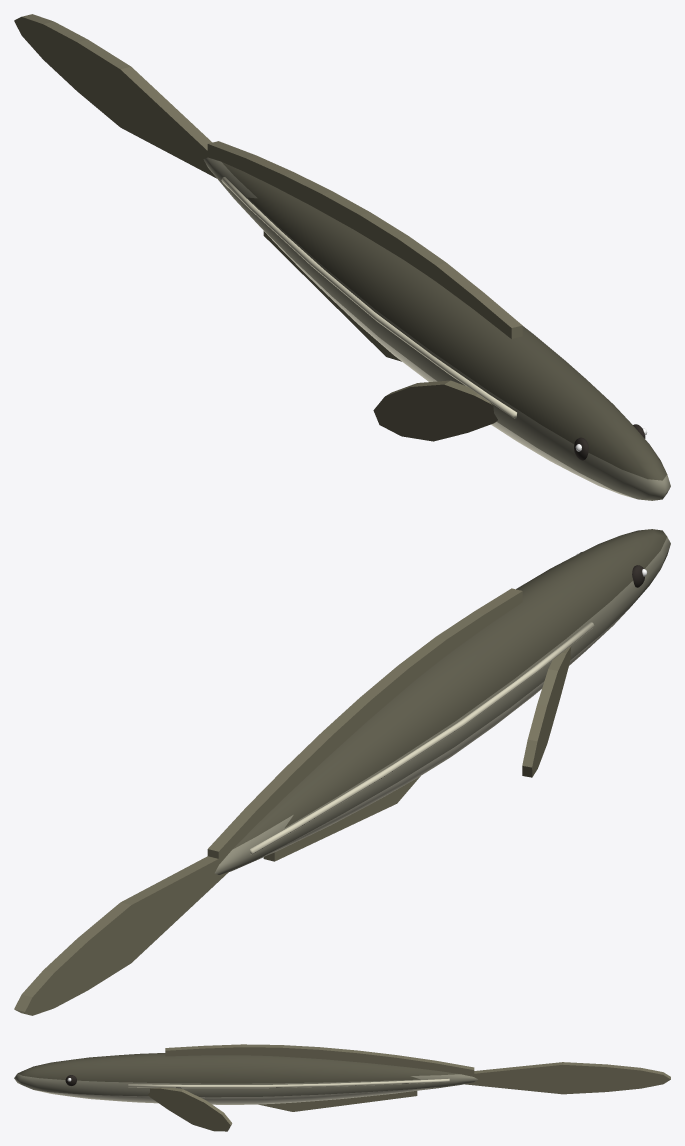
Rendered from sea-conger.glb.
3 renders of one model, top to bottom at view 1: azimuth 30°, elevation 25°; view 2: azimuth 150°, elevation 25°; view 3: azimuth 270°, elevation 25°, orthographic. The views are drawn at different scales.
Visible parts, largest first — view 1: fish; view 2: fish; view 3: fish.
Boxes of the visible parts, <box> form: fish: <box>14,14,670,500</box>; fish: <box>14,529,670,1015</box>; fish: <box>14,1044,670,1131</box>.
Bounding box in the file's own units: 0.0864 × 0.0702 × 0.6099.
